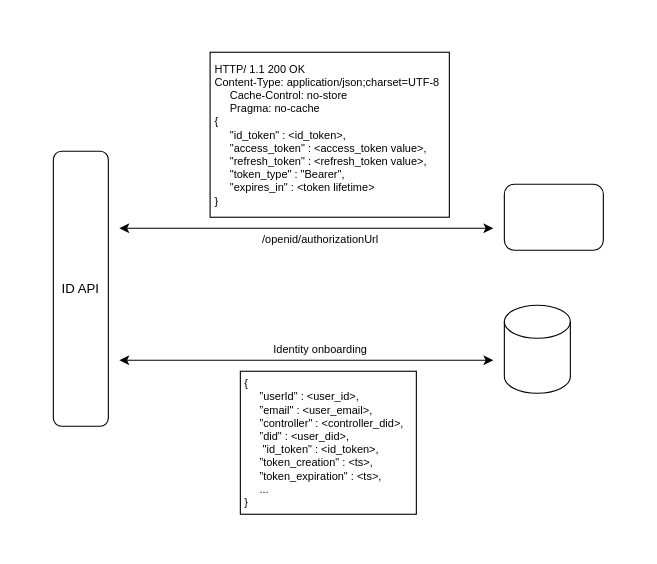
The diagram is 657 pixels wide and 564 high, and some of its shapes have lost their labels. Here are the shapes that lost their labels. From the top down, the box of each, then its label:
(503, 183, 603, 250): Authorization Server
(503, 304, 570, 393): ID API Database
